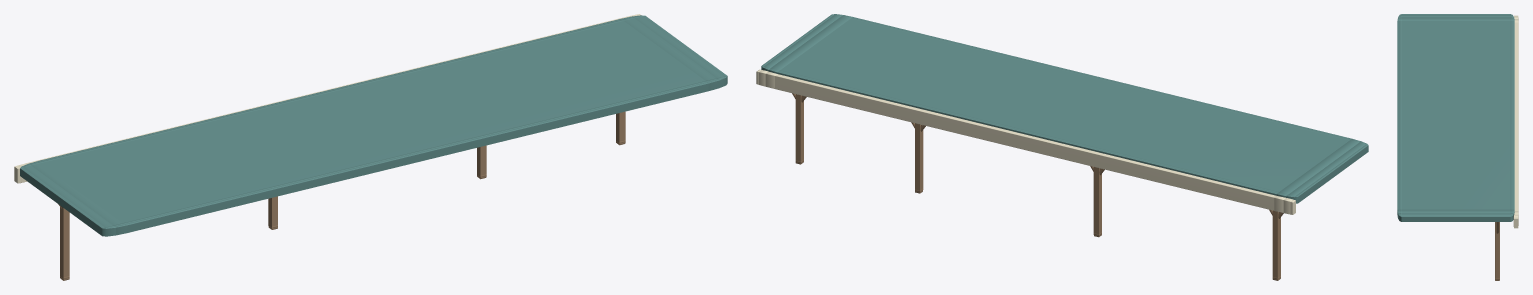
Rendered from SM_Canopy.fbx.
The picture shows the model from 3 angles, left to right: view 1: azimuth 30°, elevation 25°; view 2: azimuth 150°, elevation 25°; view 3: azimuth 270°, elevation 25°; orthographic projection. The views are drawn at different scales.
Parts seen in each view (by area): view 1: SM_Canopy; view 2: SM_Canopy; view 3: SM_Canopy.
Boxes of the visible parts, left/top/right/bottom form: SM_Canopy: left=14, top=14, right=727, bottom=280; SM_Canopy: left=756, top=14, right=1368, bottom=280; SM_Canopy: left=1397, top=14, right=1518, bottom=280.
Bounding box in the file's own units: 1800 × 454 × 308.
